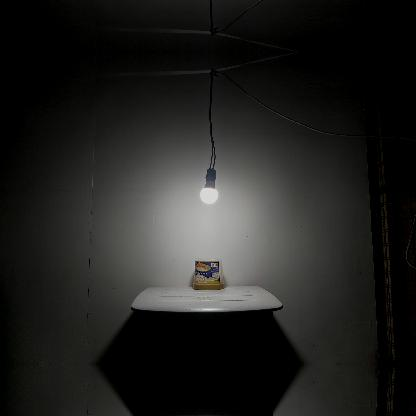Lady-s-Choice: (192, 256, 224, 290)
